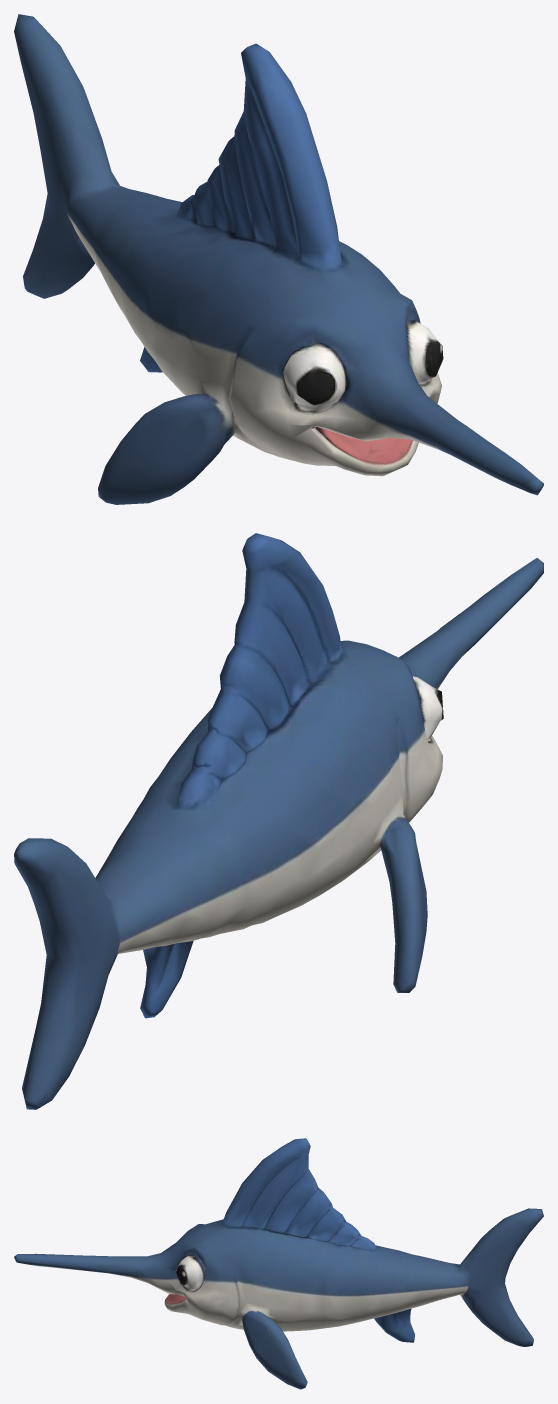
File: fish-swordfish.glb
The picture shows the model from 3 angles, top to bottom: view 1: azimuth 30°, elevation 25°; view 2: azimuth 150°, elevation 25°; view 3: azimuth 270°, elevation 25°; orthographic projection. The views are drawn at different scales.
Visible parts, largest first — view 1: tripo_node_7cdcb154-cd17-4cd2-bee6-c27773ab5b34; view 2: tripo_node_7cdcb154-cd17-4cd2-bee6-c27773ab5b34; view 3: tripo_node_7cdcb154-cd17-4cd2-bee6-c27773ab5b34.
Part boxes in pixels (bbox=[...]): tripo_node_7cdcb154-cd17-4cd2-bee6-c27773ab5b34: bbox=[14, 14, 543, 504]; tripo_node_7cdcb154-cd17-4cd2-bee6-c27773ab5b34: bbox=[14, 533, 543, 1109]; tripo_node_7cdcb154-cd17-4cd2-bee6-c27773ab5b34: bbox=[14, 1138, 543, 1389].
Size of the model in its own units: 0.3489 by 0.4455 by 1.
1 material, 1 textured.
